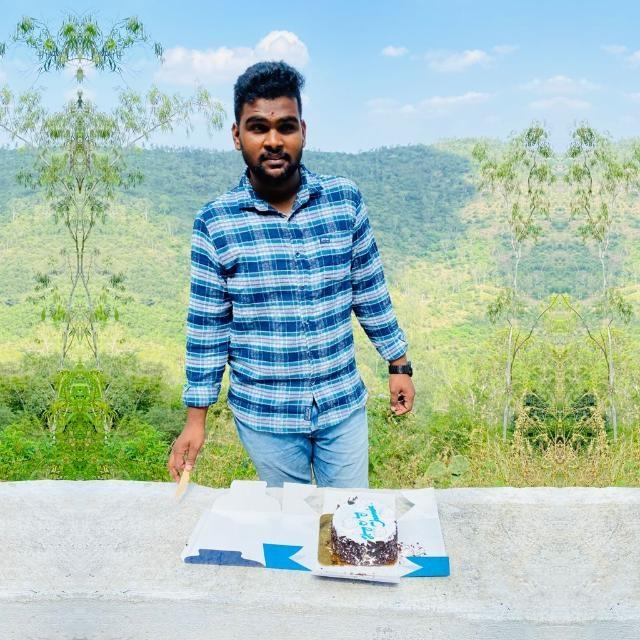person: (222, 79, 351, 468)
